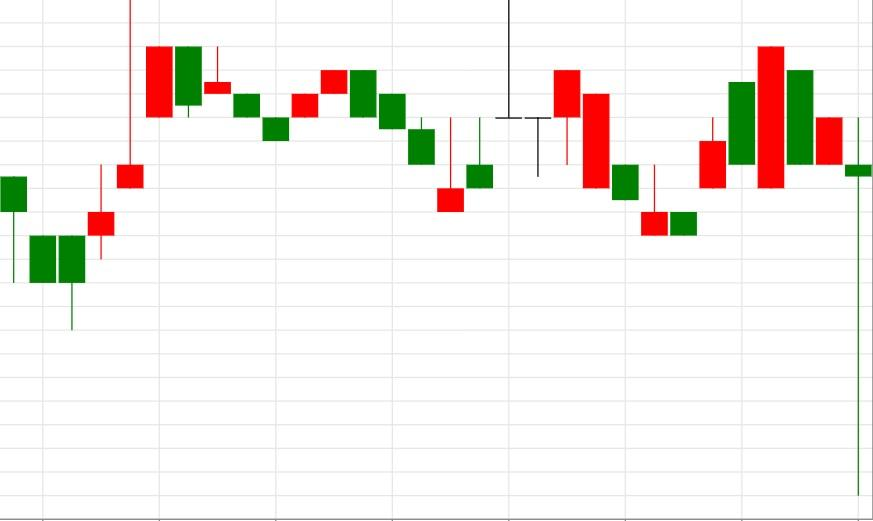bearish_engulfing_fall: (263, 69, 377, 141)
inverse_hammer_rise: (554, 69, 669, 237), (349, 70, 465, 214)
